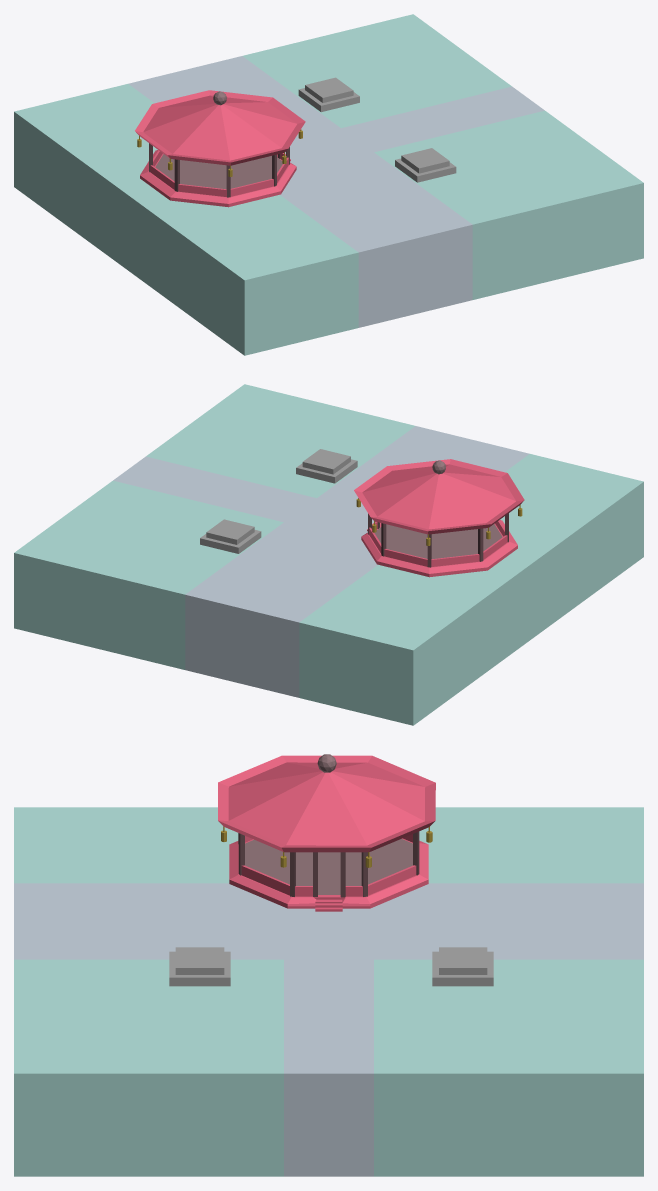
Rendered from Park.fbx.
3 renders of one model, top to bottom at view 1: azimuth 30°, elevation 25°; view 2: azimuth 150°, elevation 25°; view 3: azimuth 270°, elevation 25°, orthographic. The views are drawn at different scales.
Parts seen in each view (by area): view 1: Dragon Base - Ground, Temple Base, Base Dragoo, Base Dragoo.001, Pilares Templo; view 2: Dragon Base - Ground, Temple Base, Base Dragoo.001, Base Dragoo, Pilares Templo; view 3: Dragon Base - Ground, Temple Base, Base Dragoo.001, Base Dragoo, Pilares Templo.
Boxes of the visible parts, x1,y1,x2,y2 form: Dragon Base - Ground: (14, 14, 643, 355); Temple Base: (135, 90, 305, 207); Base Dragoo: (298, 77, 359, 112); Base Dragoo.001: (395, 148, 456, 182); Pilares Templo: (149, 143, 289, 197); Dragon Base - Ground: (14, 384, 643, 725); Temple Base: (354, 459, 524, 577); Base Dragoo.001: (296, 449, 357, 483); Base Dragoo: (200, 519, 261, 553); Pilares Templo: (368, 513, 508, 567); Dragon Base - Ground: (14, 807, 643, 1176); Temple Base: (218, 754, 435, 911); Base Dragoo.001: (169, 947, 230, 986); Base Dragoo: (432, 947, 493, 986); Pilares Templo: (238, 831, 419, 897).
Size of the model in its own units: 12857 by 4859 by 12857.
